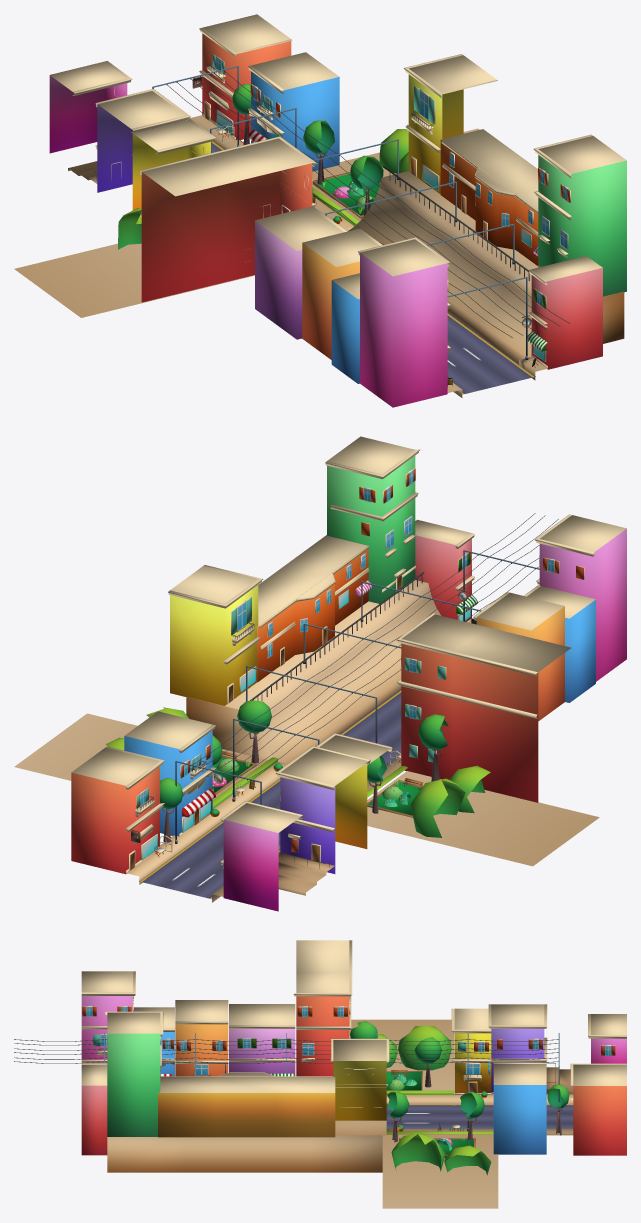
File: New wired City 1.fbx
The picture shows the model from 3 angles, top to bottom: view 1: azimuth 30°, elevation 25°; view 2: azimuth 150°, elevation 25°; view 3: azimuth 270°, elevation 25°; orthographic projection. The views are drawn at different scales.
Visible parts, largest first — view 1: city, side road, road; view 2: city, side road, road; view 3: city, side road, road.
Boxes of the visible parts, bbox=[...] form: city: bbox=[14, 14, 626, 407]; side road: bbox=[347, 171, 624, 363]; road: bbox=[211, 141, 535, 394]; city: bbox=[14, 436, 626, 911]; side road: bbox=[186, 580, 441, 763]; road: bbox=[139, 689, 401, 899]; city: bbox=[14, 940, 626, 1208]; side road: bbox=[107, 1120, 386, 1172]; road: bbox=[386, 1104, 573, 1128].
Bounding box in the file's own units: 1975 × 697 × 2705.
